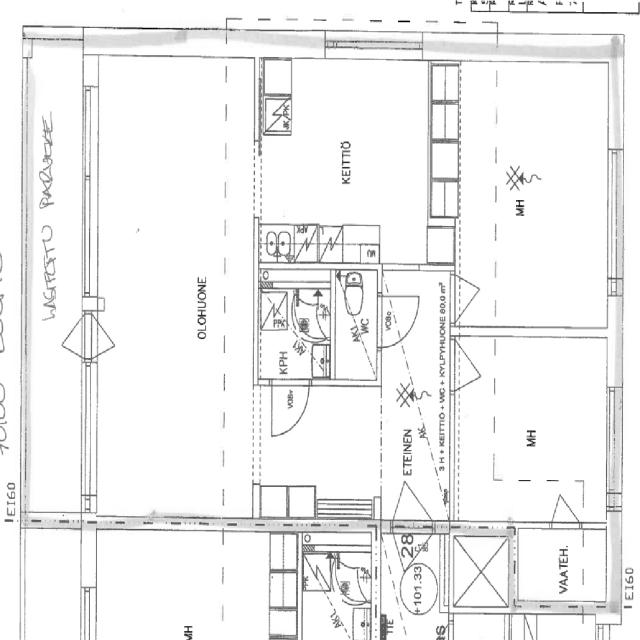door: (382, 285, 422, 344), (271, 380, 310, 434), (393, 479, 432, 531), (453, 334, 486, 390), (549, 484, 584, 531), (452, 274, 482, 322)
window: (78, 361, 100, 495), (79, 584, 97, 640)
zone: (444, 42, 624, 350), (258, 48, 442, 264), (491, 334, 612, 484), (219, 528, 366, 640), (89, 525, 225, 640), (510, 528, 614, 610), (259, 278, 334, 378), (300, 538, 374, 639), (22, 524, 86, 640), (334, 268, 381, 381), (448, 530, 512, 610)
